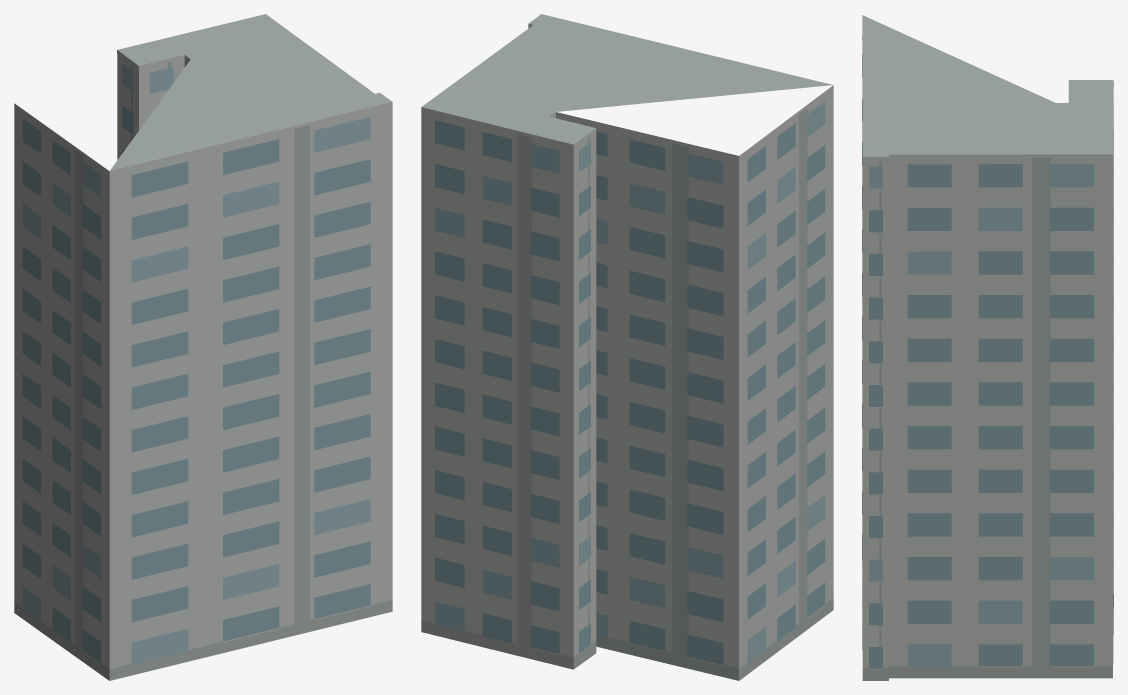
The model's file is residential-abe22880-af9e-4101-8b84-0282ef7feed0.glb.
3 renders of one model, left to right at view 1: azimuth 30°, elevation 25°; view 2: azimuth 150°, elevation 25°; view 3: azimuth 270°, elevation 25°, orthographic. The views are drawn at different scales.
Visible parts, largest first — view 1: residential-abe22880-af9e-4101-8b84-0282ef7feed0.tmp; view 2: residential-abe22880-af9e-4101-8b84-0282ef7feed0.tmp; view 3: residential-abe22880-af9e-4101-8b84-0282ef7feed0.tmp.
Part boxes in pixels (x1=…): residential-abe22880-af9e-4101-8b84-0282ef7feed0.tmp: x1=14, y1=14, x2=392, y2=680; residential-abe22880-af9e-4101-8b84-0282ef7feed0.tmp: x1=421, y1=14, x2=833, y2=680; residential-abe22880-af9e-4101-8b84-0282ef7feed0.tmp: x1=862, y1=15, x2=1113, y2=680.
Bounding box in the file's own units: 21.45 × 36.6 × 15.94.
